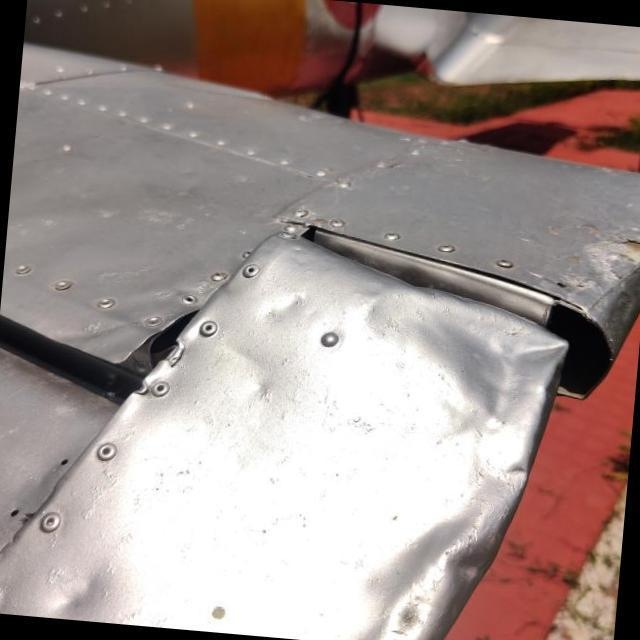Dent: (406, 290, 592, 469), (332, 474, 517, 640), (36, 534, 132, 624)
